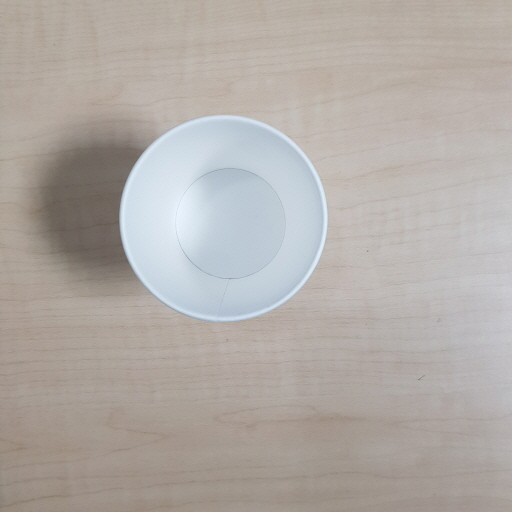Paper_1: (116, 116, 331, 323)
